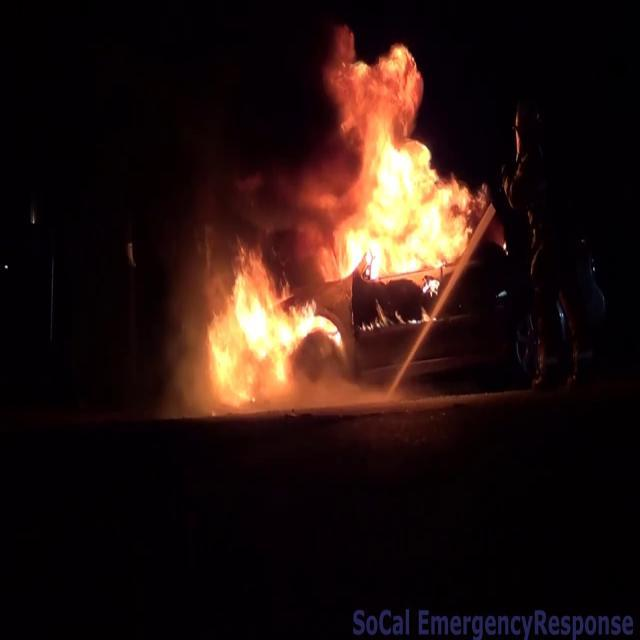Fire: (294, 29, 482, 280), (184, 242, 328, 408)
